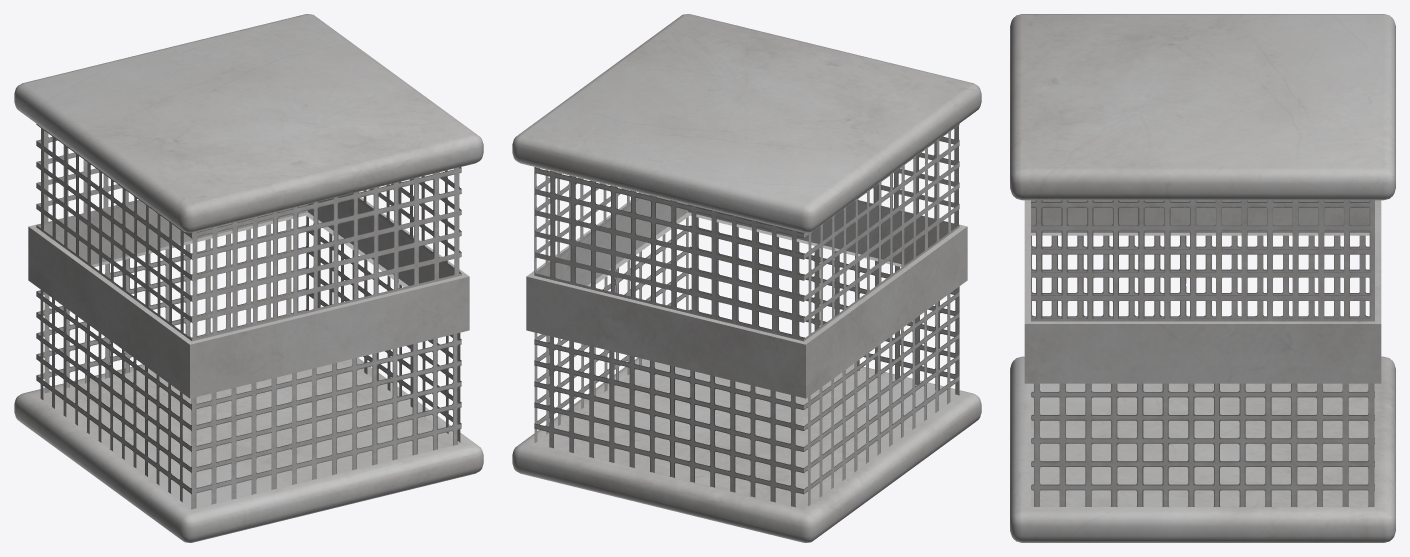
File: gabbia.fbx
3 views of the same model, side by side, from view 1: azimuth 30°, elevation 25°; view 2: azimuth 150°, elevation 25°; view 3: azimuth 270°, elevation 25° (orthographic). The views are drawn at different scales.
Parts seen in each view (by area): view 1: gabbia; view 2: gabbia; view 3: gabbia.
Boxes of the visible parts, x1,y1,x2,y2 form: gabbia: (14,14,483,542); gabbia: (512,14,981,542); gabbia: (1010,14,1395,542).
Bounding box in the file's own units: 224 × 240 × 224.
